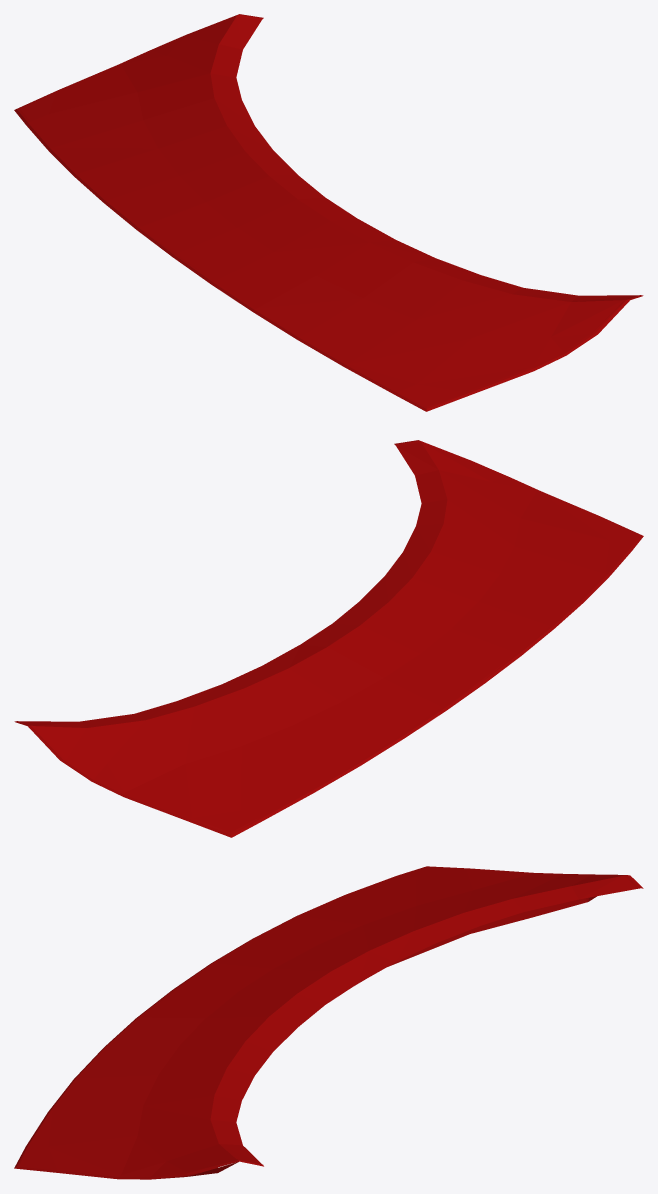
Rendered from trunk_a.002.dae.
3 renders of one model, top to bottom at view 1: azimuth 30°, elevation 25°; view 2: azimuth 150°, elevation 25°; view 3: azimuth 330°, elevation 25°, orthographic.
Parts seen in each view (by area): view 1: trunk_a; view 2: trunk_a; view 3: trunk_a.
Boxes of the visible parts, left/top/right/bottom form: trunk_a: left=14, top=14, right=643, bottom=411; trunk_a: left=14, top=440, right=643, bottom=837; trunk_a: left=14, top=866, right=643, bottom=1179.
Bounding box in the file's own units: 50.72 × 130 × 8.95.
